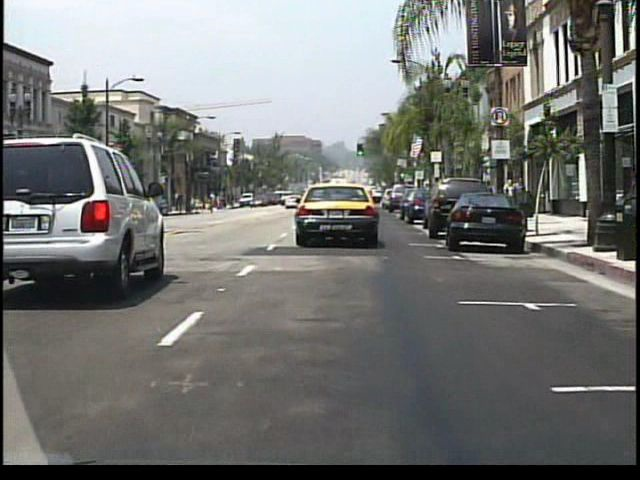person: (511, 175, 528, 221), (502, 179, 515, 215), (225, 195, 232, 211)
